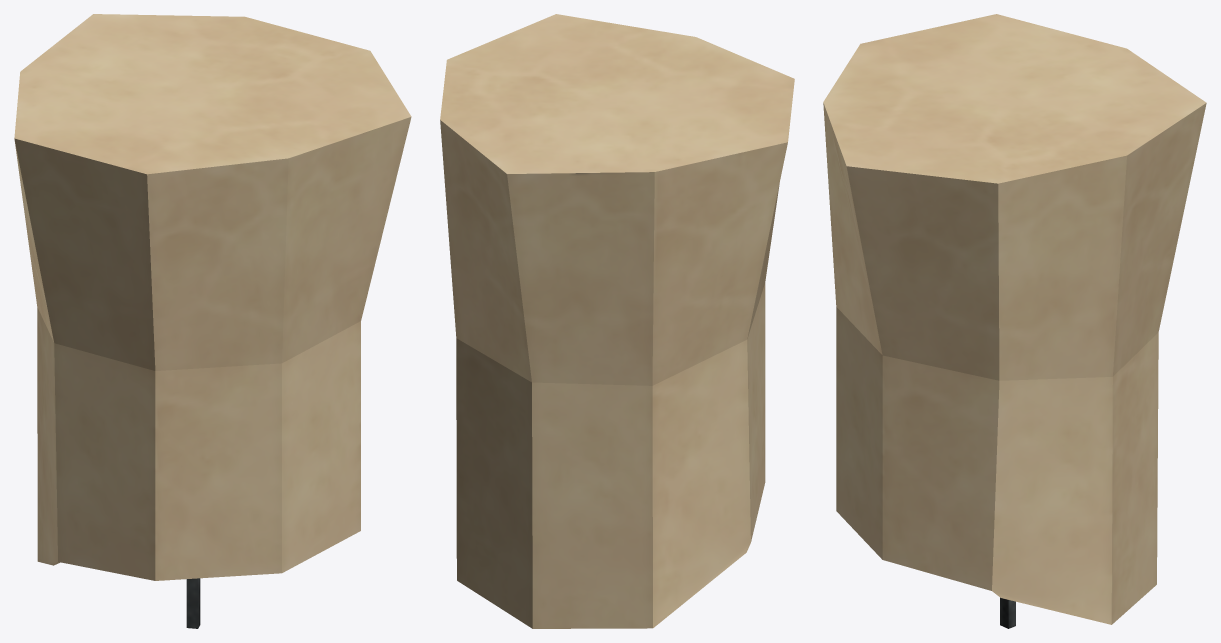
Rendered from candle.fbx.
The picture shows the model from 3 angles, left to right: view 1: azimuth 30°, elevation 25°; view 2: azimuth 150°, elevation 25°; view 3: azimuth 270°, elevation 25°; orthographic projection. The views are drawn at different scales.
Visible parts, largest first — view 1: Candle; view 2: Candle; view 3: Candle.
Part boxes in pixels (<box>): Candle: <box>14,14,411,628</box>; Candle: <box>440,14,794,628</box>; Candle: <box>823,14,1206,628</box>.
Size of the model in its own units: 347 by 500 by 331.
